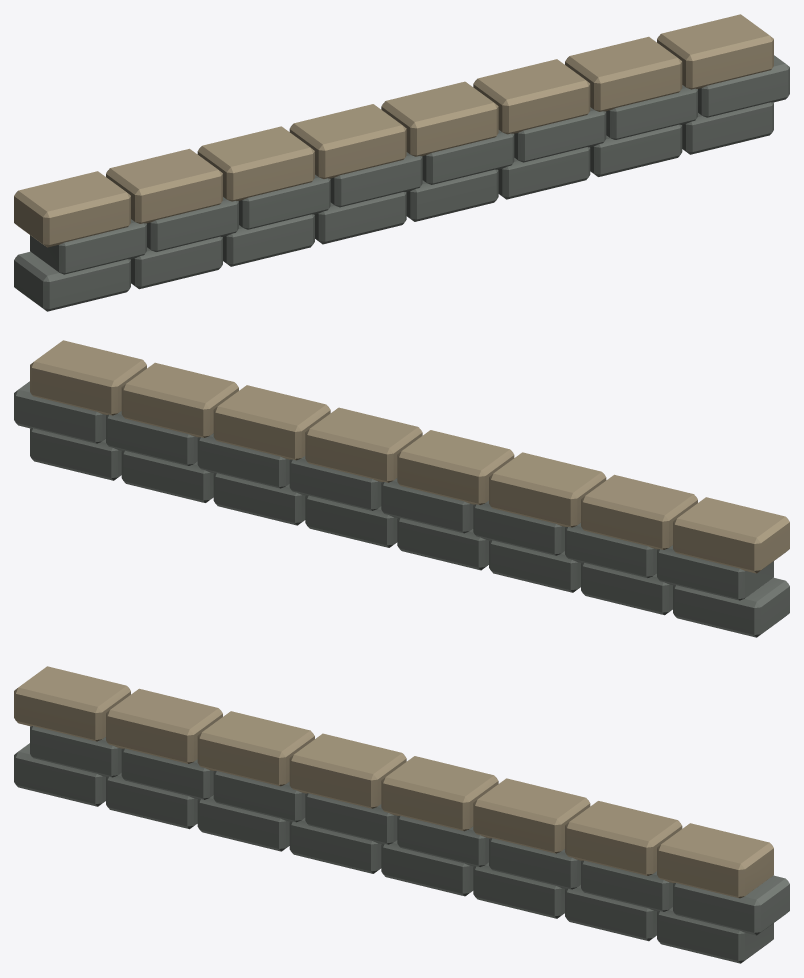
File: terrace_wall.glb
The picture shows the model from 3 angles, top to bottom: view 1: azimuth 30°, elevation 25°; view 2: azimuth 150°, elevation 25°; view 3: azimuth 330°, elevation 25°; orthographic projection.
Parts seen in each view (by area): view 1: terrace_wall; view 2: terrace_wall; view 3: terrace_wall.
Part boxes in pixels (x1=…): terrace_wall: x1=14, y1=14, x2=789, y2=311; terrace_wall: x1=14, y1=340, x2=789, y2=637; terrace_wall: x1=14, y1=666, x2=789, y2=963.
Bounding box in the file's own units: 6.1 × 0.78 × 0.48.
